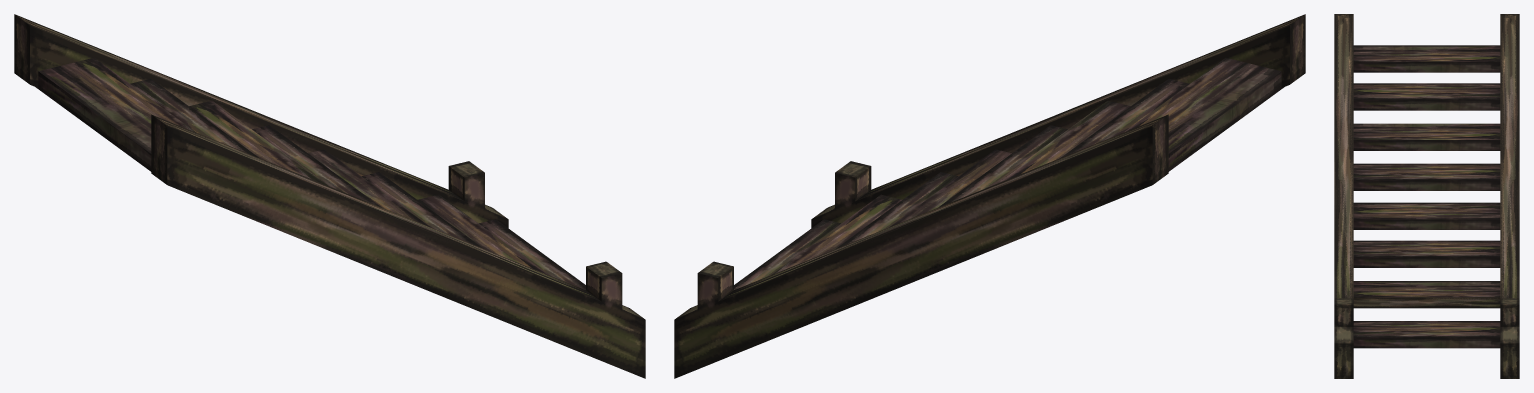
The model's file is STR_StairVillage.FBX.
3 renders of one model, left to right at view 1: azimuth 30°, elevation 25°; view 2: azimuth 150°, elevation 25°; view 3: azimuth 270°, elevation 25°, orthographic. The views are drawn at different scales.
Visible parts, largest first — view 1: STR_StairVillage; view 2: STR_StairVillage; view 3: STR_StairVillage.
Part boxes in pixels (x1,y1,x2,y2): STR_StairVillage: [14, 14, 645, 378]; STR_StairVillage: [674, 14, 1305, 378]; STR_StairVillage: [1334, 14, 1519, 378].
Size of the model in its own units: 389 by 287 by 216.
Materials: 1 (1 with a texture image).
